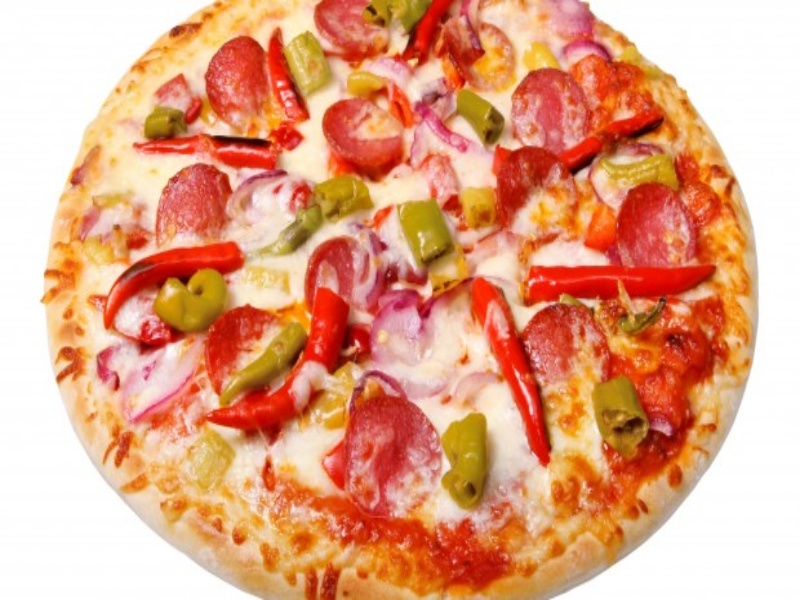pepperonis: (511, 65, 597, 151), (614, 183, 697, 270)
